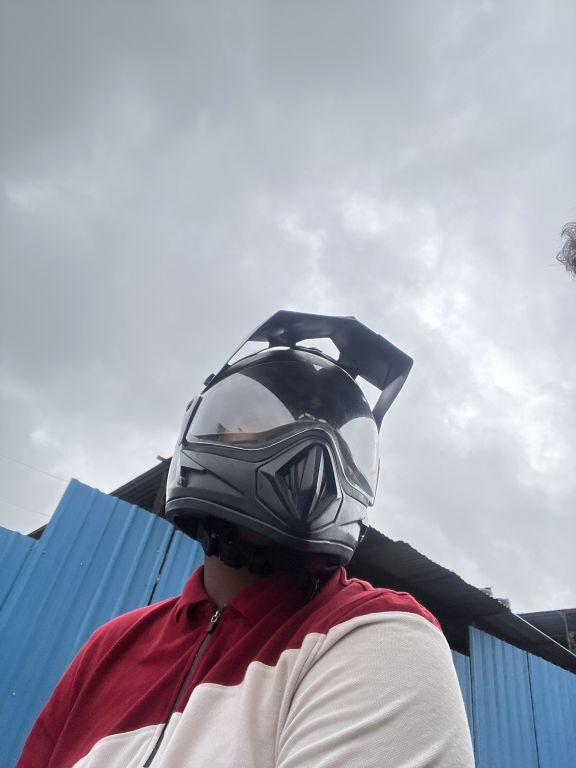helmet: (162, 289, 420, 573)
